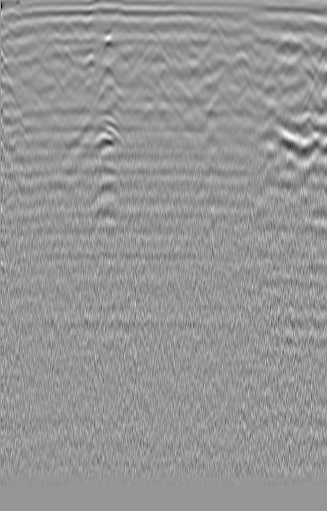가스: (86, 173, 120, 208)
상수: (12, 26, 41, 53)
우수: (135, 29, 168, 63)
